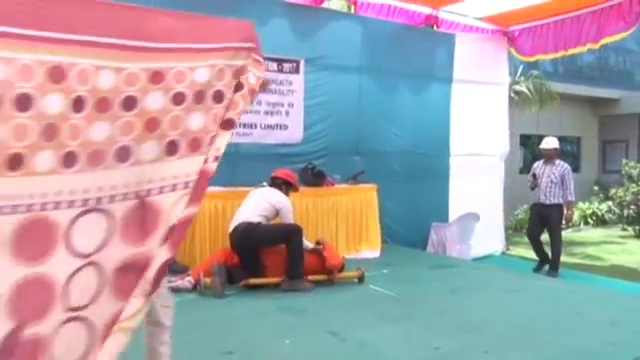helmet: (271, 166, 300, 193), (537, 135, 561, 151)
helmet_on: (266, 165, 299, 199), (537, 134, 562, 165)
person: (209, 165, 313, 301), (162, 238, 346, 295), (528, 136, 577, 277)
